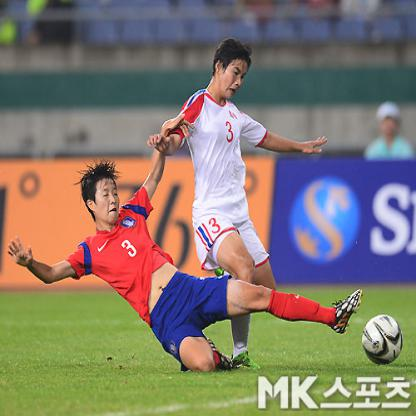Fall_Down: (9, 114, 366, 374)
